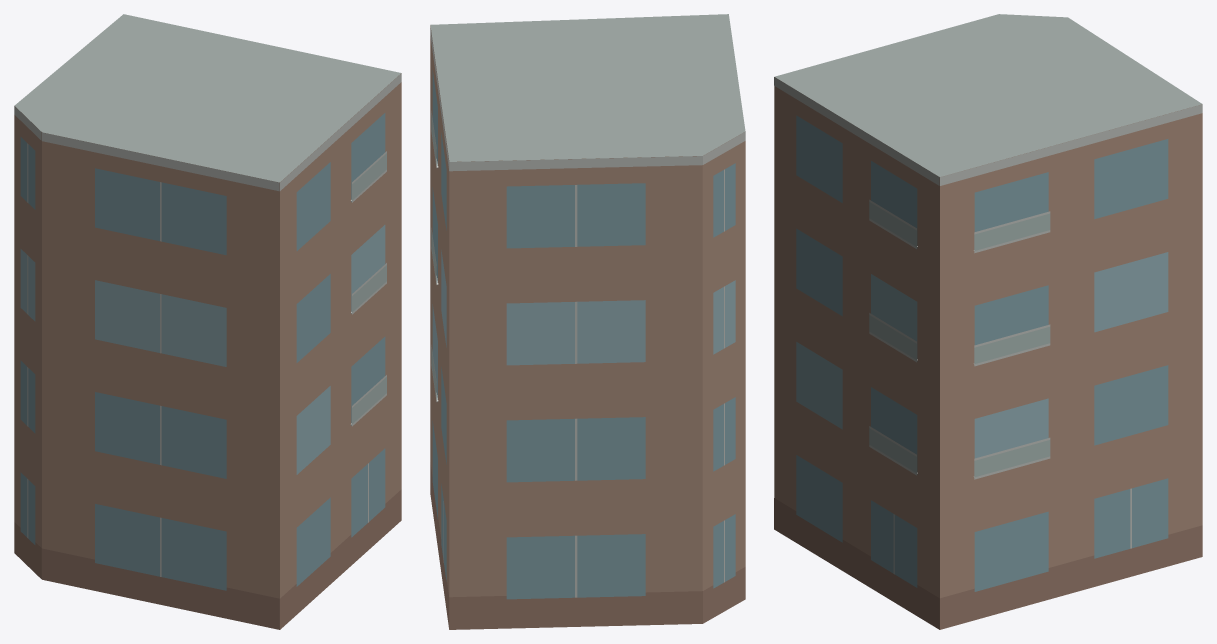
Rendered from survey-upis-32995291.glb.
The picture shows the model from 3 angles, left to right: view 1: azimuth 30°, elevation 25°; view 2: azimuth 150°, elevation 25°; view 3: azimuth 270°, elevation 25°; orthographic projection. The views are drawn at different scales.
Visible parts, largest first — view 1: survey-upis-32995291.tmp; view 2: survey-upis-32995291.tmp; view 3: survey-upis-32995291.tmp.
Part boxes in pixels (x1=…): survey-upis-32995291.tmp: x1=14, y1=14, x2=401, y2=629; survey-upis-32995291.tmp: x1=430, y1=14, x2=745, y2=629; survey-upis-32995291.tmp: x1=774, y1=14, x2=1202, y2=629.
Size of the model in its own units: 9.52 by 12.3 by 10.56.
